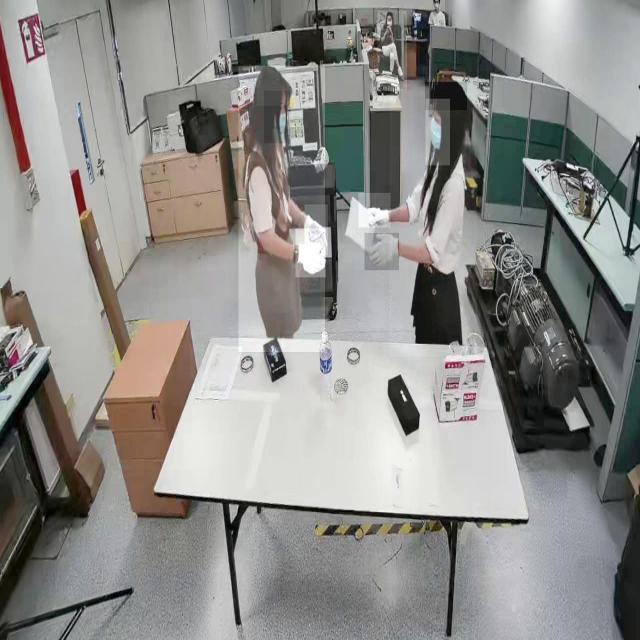gloves: (296, 228, 326, 278), (364, 233, 400, 271), (304, 204, 328, 256), (358, 193, 391, 228)
